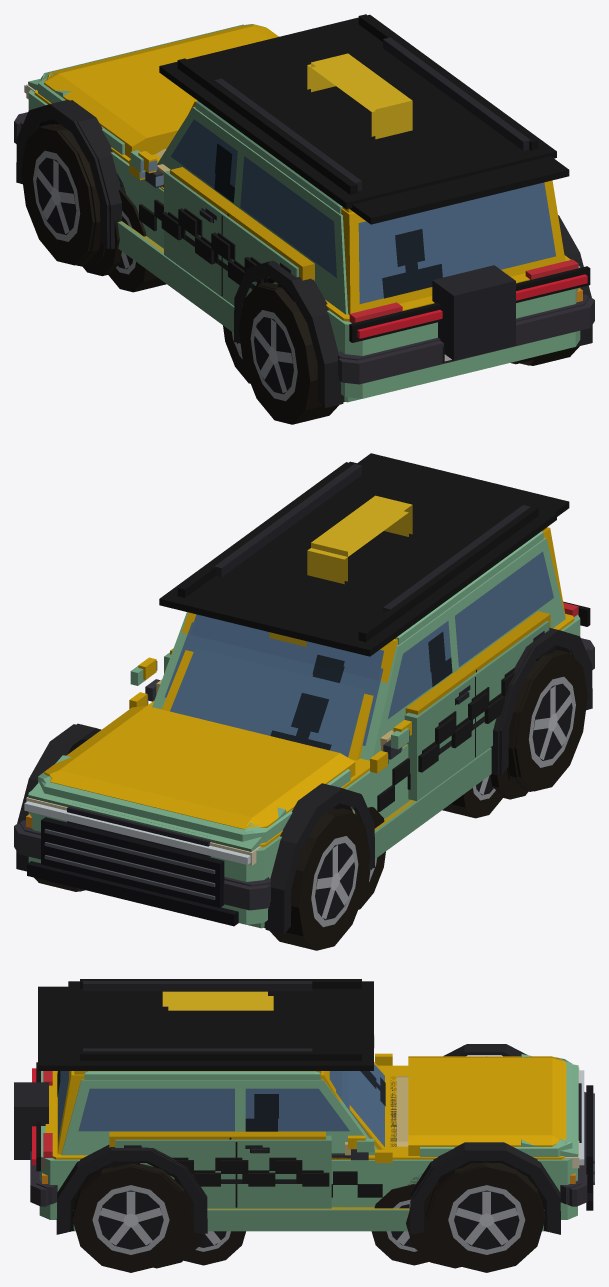
The model's file is south-traffic-models.glb.
The picture shows the model from 3 angles, top to bottom: view 1: azimuth 30°, elevation 25°; view 2: azimuth 150°, elevation 25°; view 3: azimuth 270°, elevation 25°; orthographic projection. The views are drawn at different scales.
Visible parts, largest first — view 1: Style0, Style1, Style5, Style6, Style8, Style2; view 2: Style0, Style1, Style2, Style5, Style6, Style8; view 3: Style0, Style1, Style6, Style2, Style5, Style8.
Part boxes in pixels (x1,y1,x2,y2): Style0: [14, 14, 594, 424]; Style1: [20, 24, 588, 402]; Style5: [161, 64, 582, 302]; Style6: [108, 149, 250, 383]; Style8: [83, 169, 163, 276]; Style2: [79, 159, 536, 364]; Style0: [14, 453, 594, 950]; Style1: [20, 464, 588, 928]; Style2: [129, 632, 525, 812]; Style5: [26, 511, 554, 828]; Style6: [156, 679, 502, 909]; Style8: [145, 679, 528, 890]; Style0: [30, 979, 594, 1272]; Style1: [14, 981, 581, 1264]; Style6: [184, 1076, 429, 1265]; Style2: [331, 1053, 454, 1264]; Style5: [42, 996, 575, 1186]; Style8: [154, 1077, 460, 1268].
Bounding box in the file's own units: 2.26 × 2.06 × 4.96.
